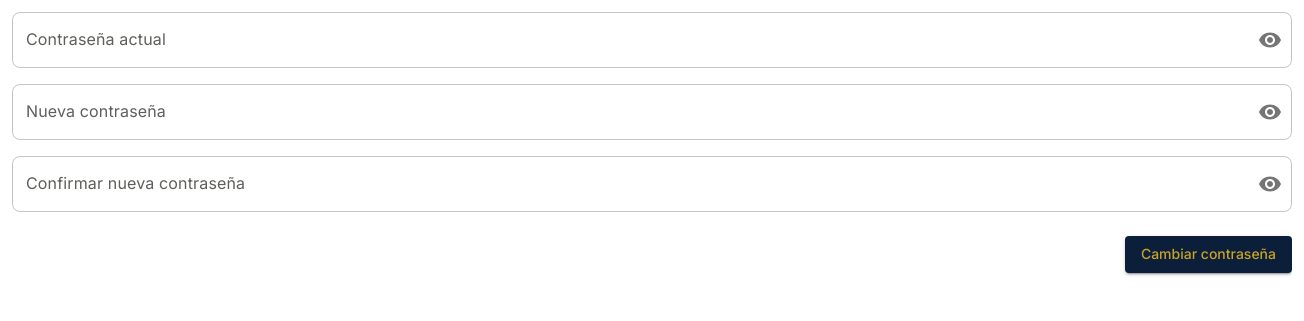
Test: ChangePasswordForm › form submission validation › should show validation error when new password is only numeric
Type "OldPass123" into the password field labelled "Contraseña actual" at (627, 40), box [12,12,1242,68]
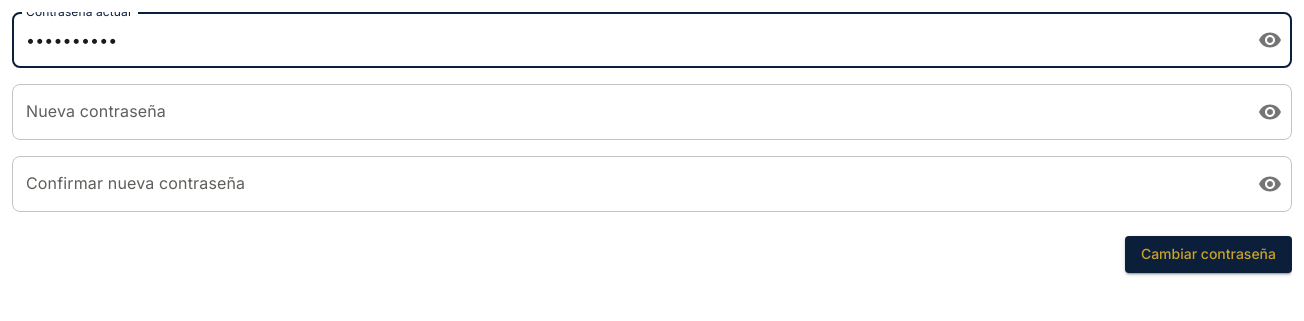
Type "12345678" into the password field labelled "Nueva contraseña" at (627, 112), box [12,84,1242,140]
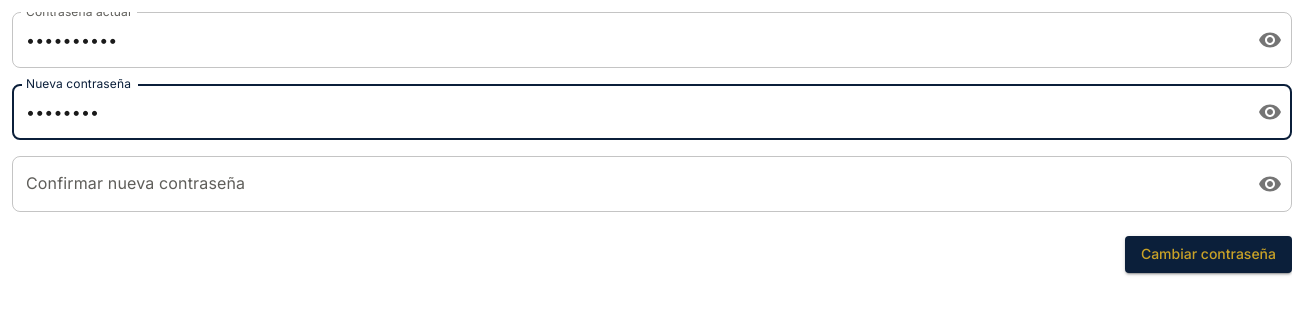
Type "12345678" into the password field labelled "Confirmar nueva contraseña" at (627, 184), box [12,156,1242,212]
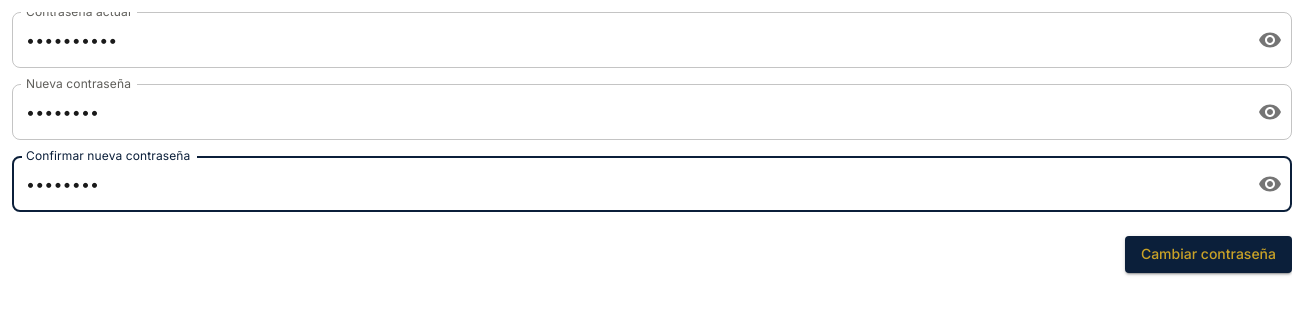
Click the button "Cambiar contraseña" at (1208, 254), box [1125,236,1292,272]
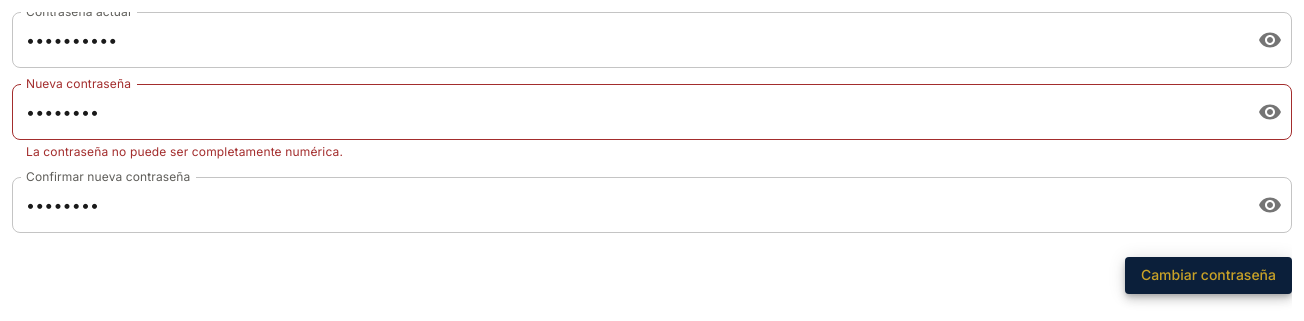
Expected: the text "La contraseña no puede ser completamente numérica." is shown, [26,144,343,159]
